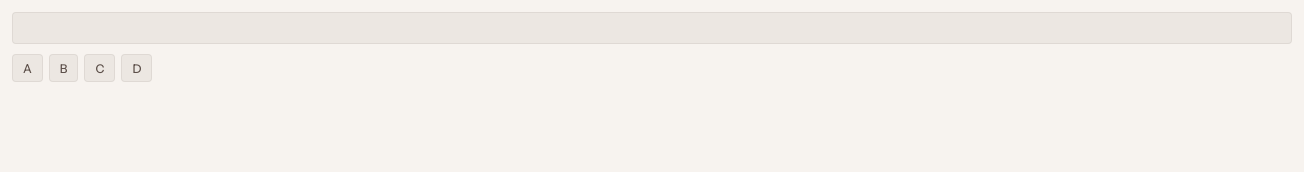
Scenario: ChipSelect › searchable › пустой результат не ломает рендер
Step 1. Type "xyz" into the search field → [652, 28], box [12,12,1292,44]
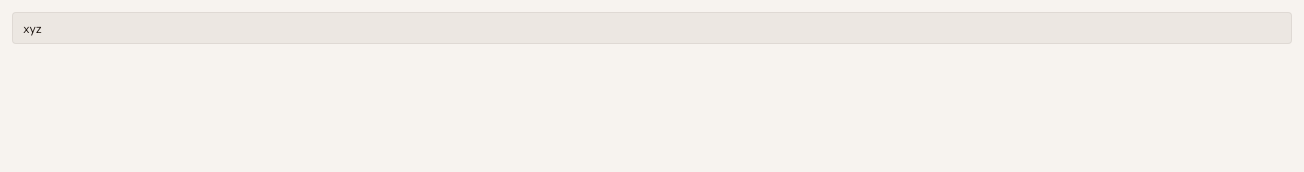
Expected: no buttons are shown
